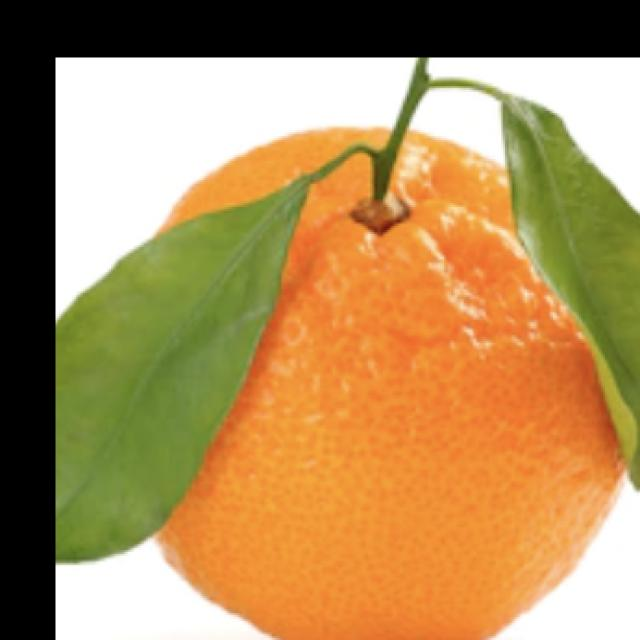orange: (113, 109, 640, 634)
